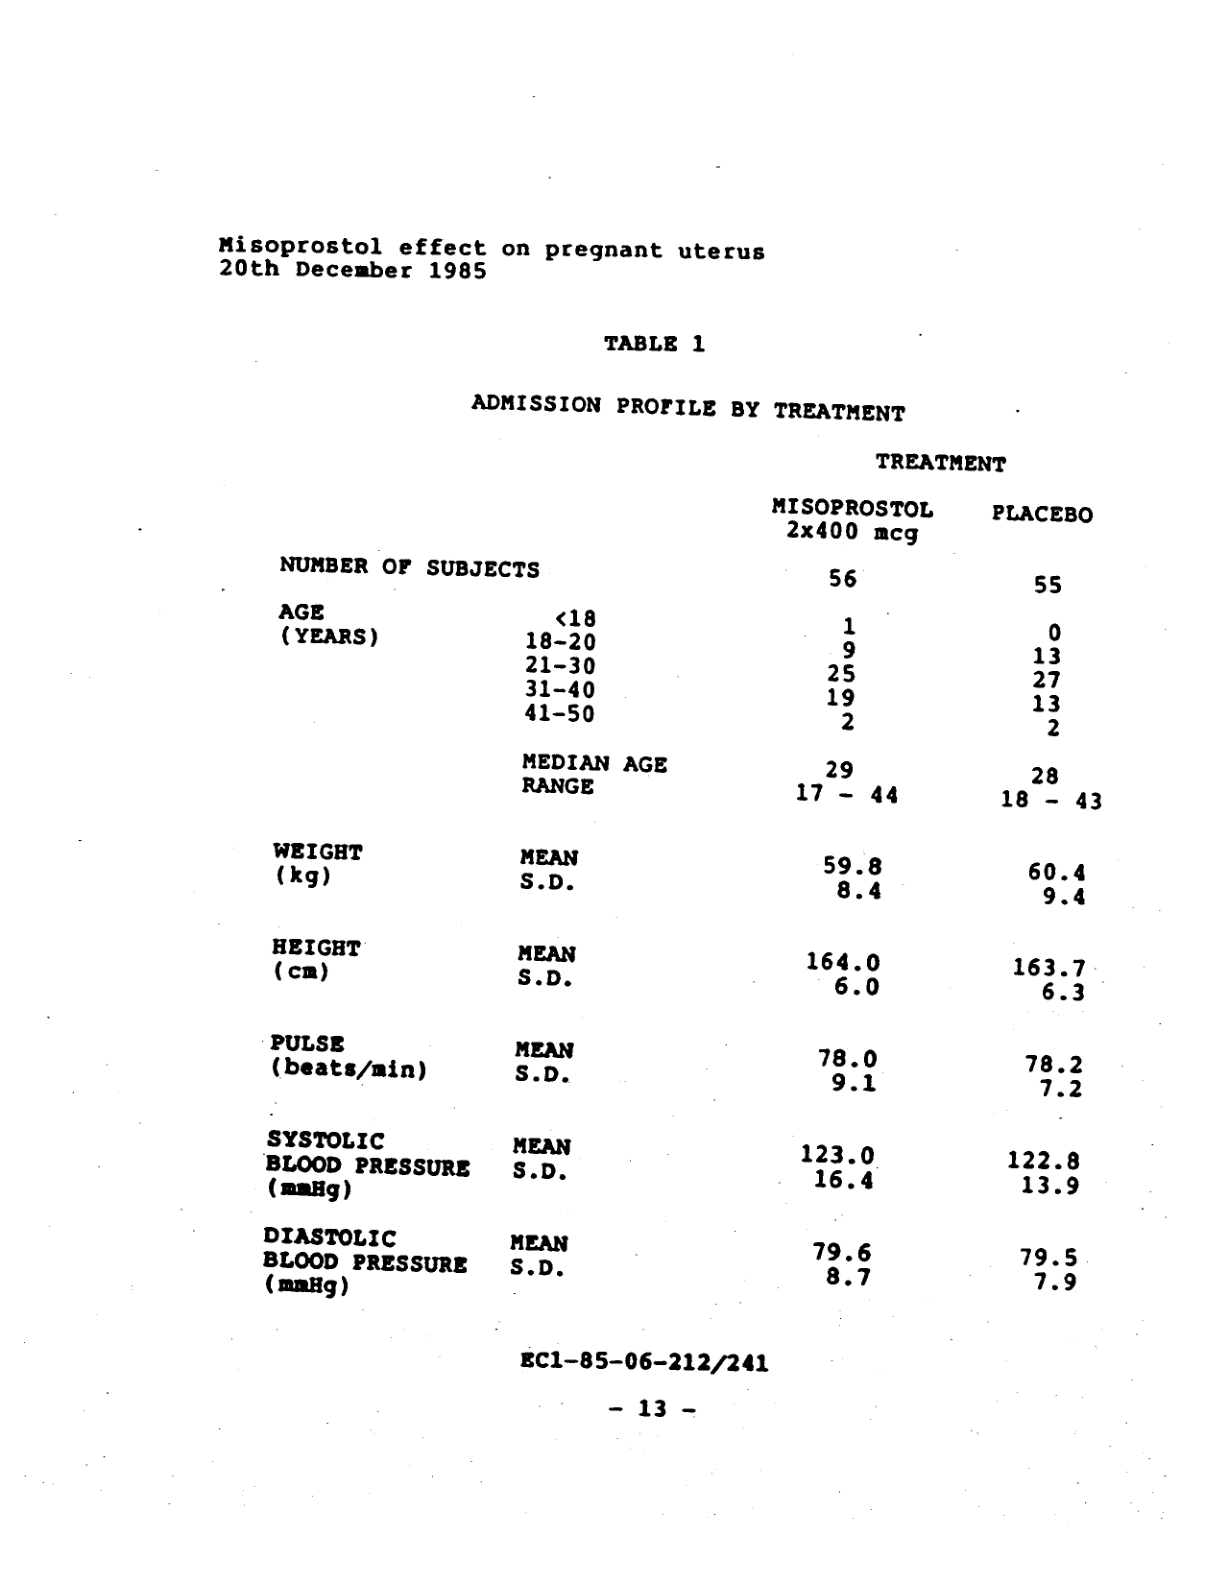nolines: (261, 449, 1103, 1296)
